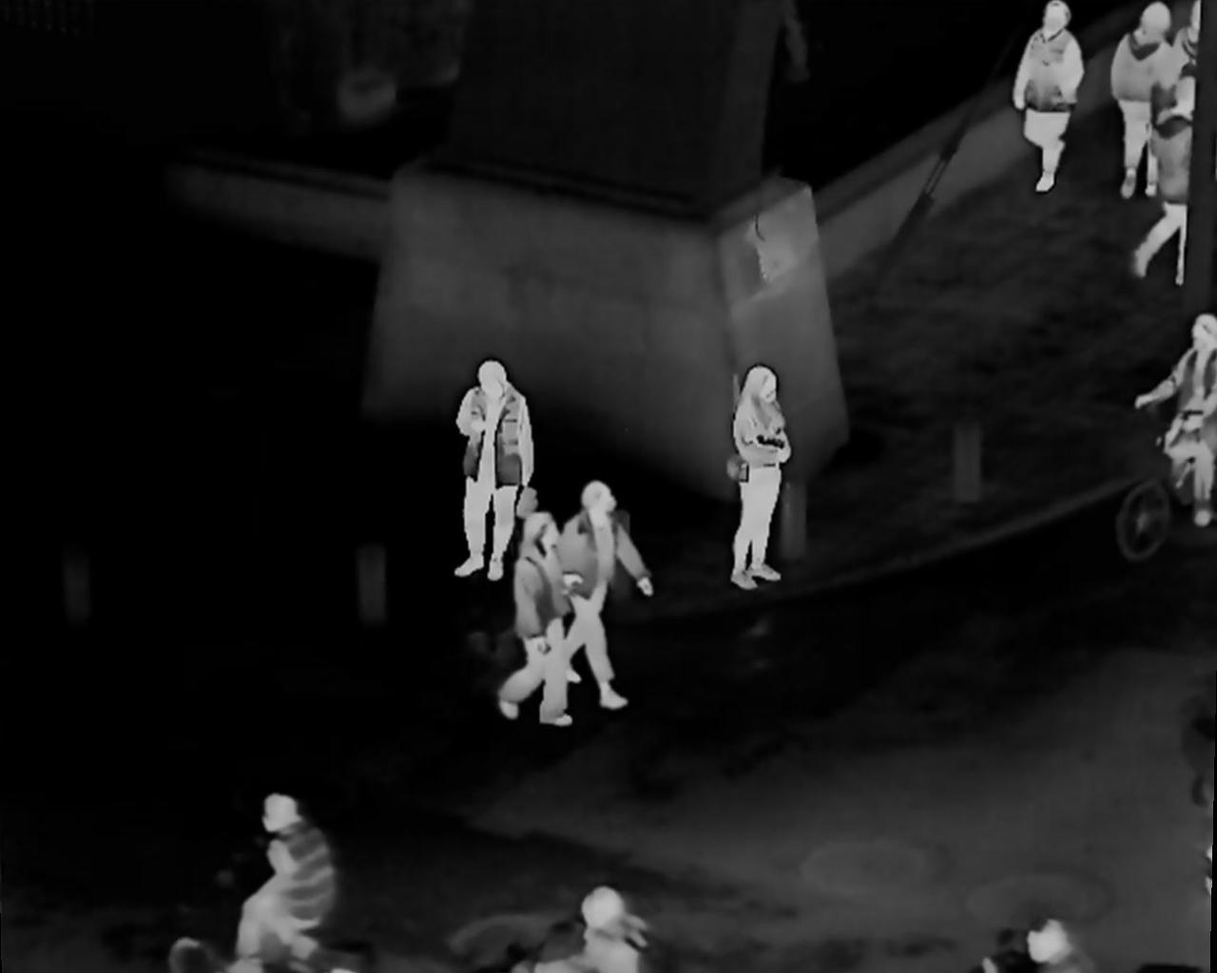person: (559, 481, 650, 706), (453, 353, 533, 582), (239, 792, 336, 971), (727, 365, 796, 595), (1130, 78, 1202, 292), (505, 514, 570, 731), (1144, 315, 1213, 516), (1102, 11, 1175, 197), (515, 884, 647, 973)
